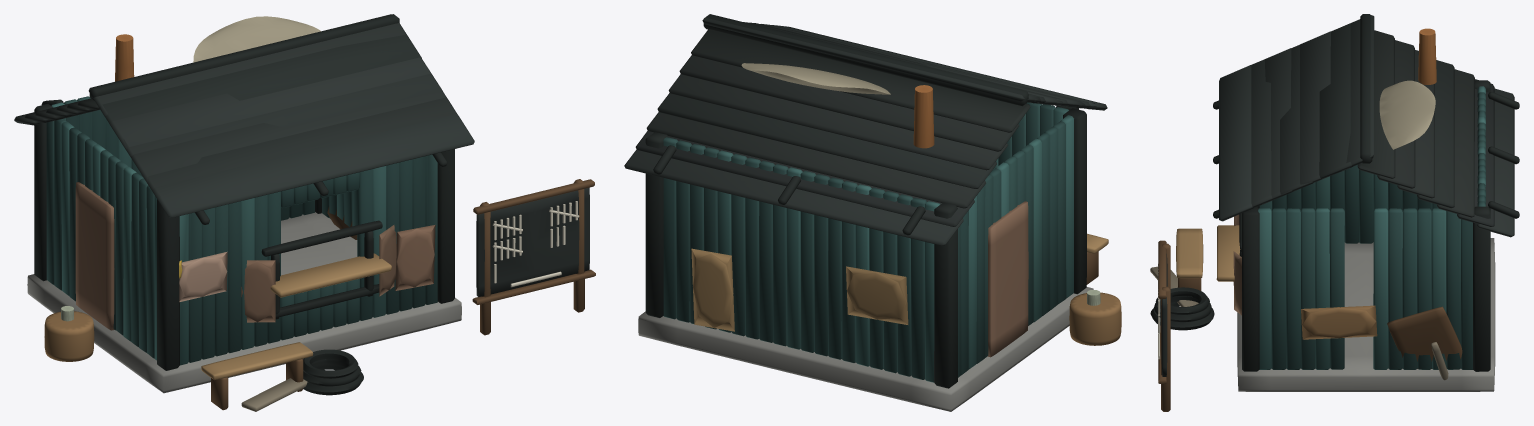
Rendered from billing_booth_b.glb.
3 renders of one model, left to right at view 1: azimuth 30°, elevation 25°; view 2: azimuth 150°, elevation 25°; view 3: azimuth 270°, elevation 25°, orthographic. The views are drawn at different scales.
Parts seen in each view (by area): view 1: Surface; view 2: Surface; view 3: Surface.
Part boxes in pixels (x1,y1,x2,y2): Surface: [14, 14, 595, 411]; Surface: [624, 14, 1121, 411]; Surface: [1150, 14, 1519, 411].
Bounding box in the file's own units: 7.35 × 4.1 × 5.44.
